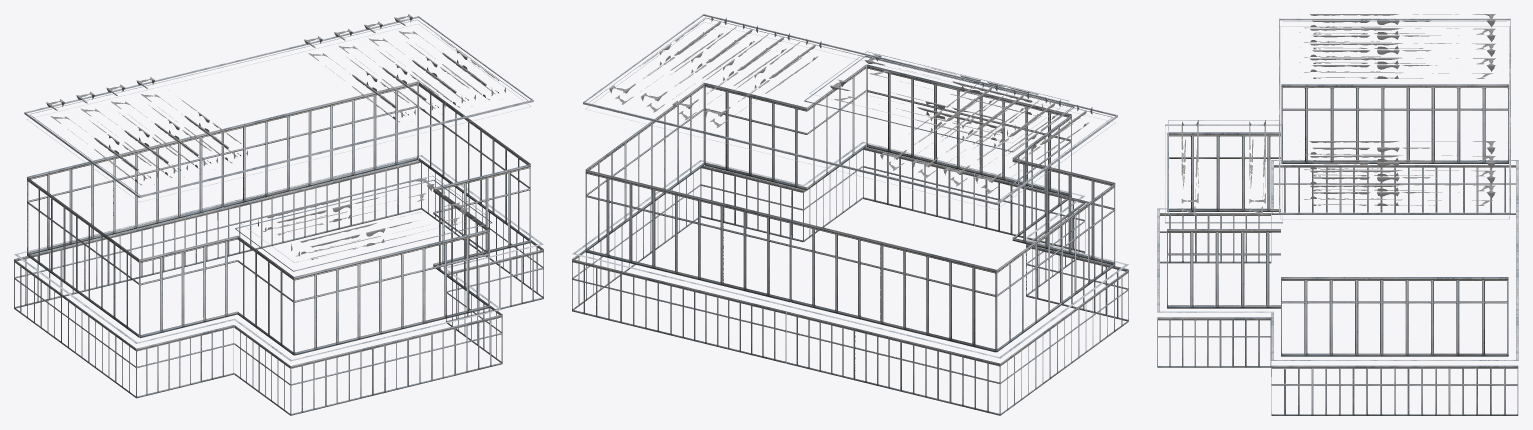
File: si_building_16.fbx
3 views of the same model, side by side, from view 1: azimuth 30°, elevation 25°; view 2: azimuth 150°, elevation 25°; view 3: azimuth 270°, elevation 25° (orthographic). The views are drawn at different scales.
Parts seen in each view (by area): view 1: si_building_16; view 2: si_building_16; view 3: si_building_16.
Part boxes in pixels (bbox=[...]): si_building_16: bbox=[14, 14, 543, 415]; si_building_16: bbox=[572, 14, 1128, 415]; si_building_16: bbox=[1157, 14, 1518, 415].
Bounding box in the file's own units: 125 × 61.41 × 95.
1 material, 1 textured.
